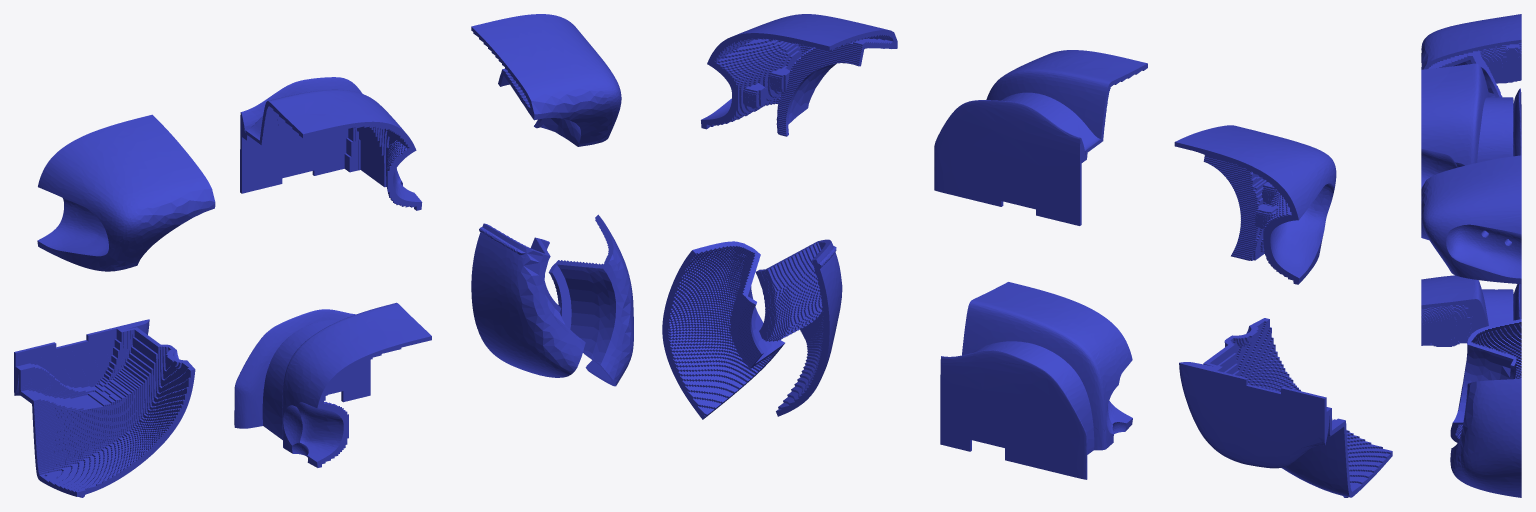
File: legs.glb
3 views of the same model, side by side, from view 1: azimuth 30°, elevation 25°; view 2: azimuth 150°, elevation 25°; view 3: azimuth 270°, elevation 25° (orthographic). The views are drawn at different scales.
Bounding box in the file's own units: 1147 × 674 × 205.
